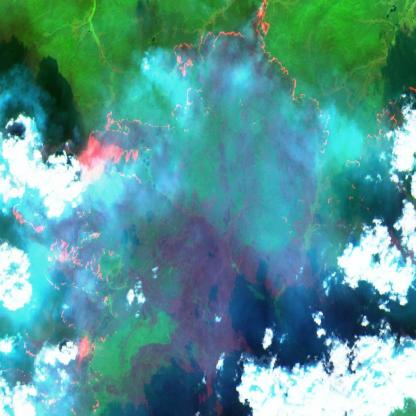fire: (0, 0, 329, 416), (336, 85, 416, 202)
